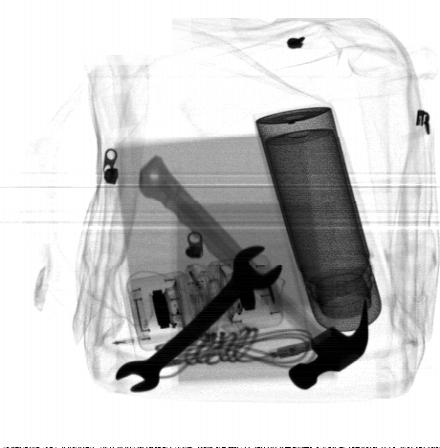Hammer: (138, 157, 369, 390)
Wrench: (116, 243, 281, 391)
